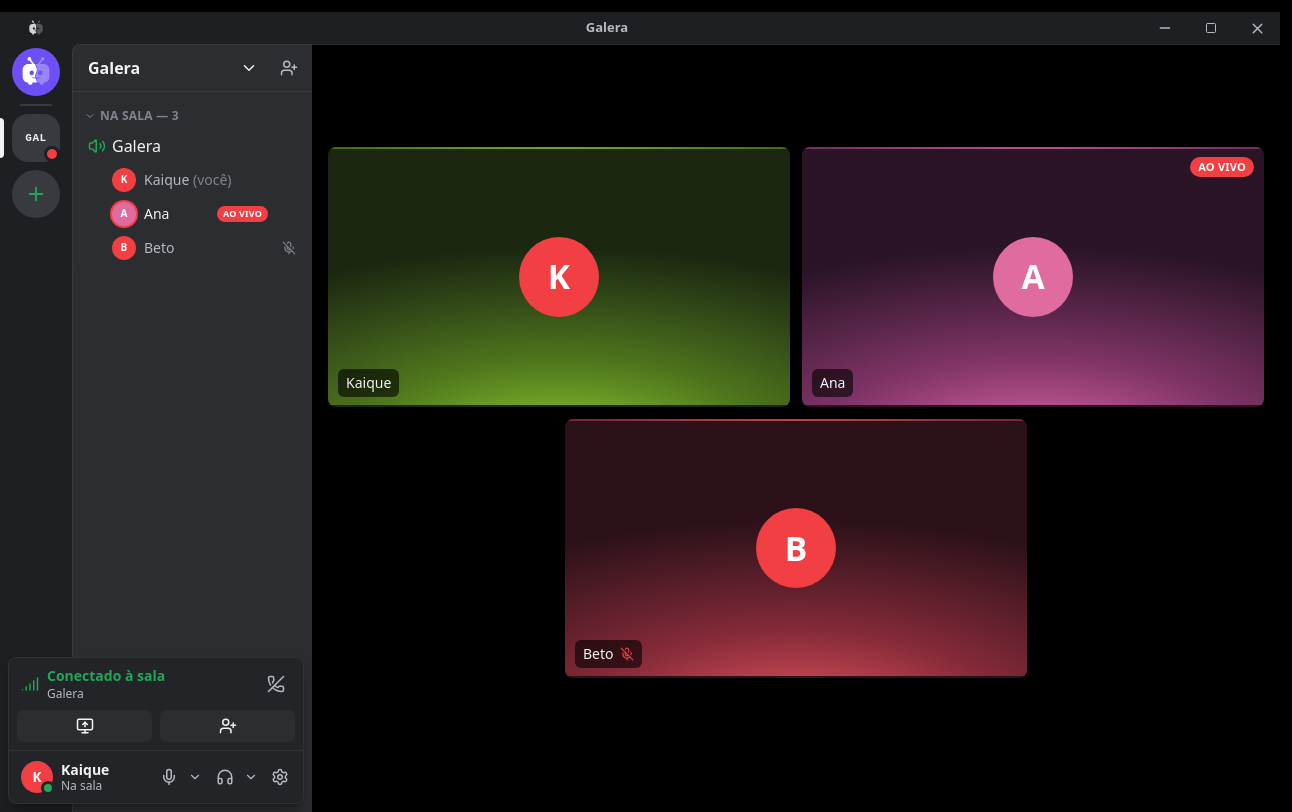
voz com alguém em foco › clicar num quadro põe a pessoa grande no centro e os outros na faixa de baixo
Click the button with aria-label "Pôr Beto em foco": (796, 548) x1=565 y1=418 x2=1027 y2=678
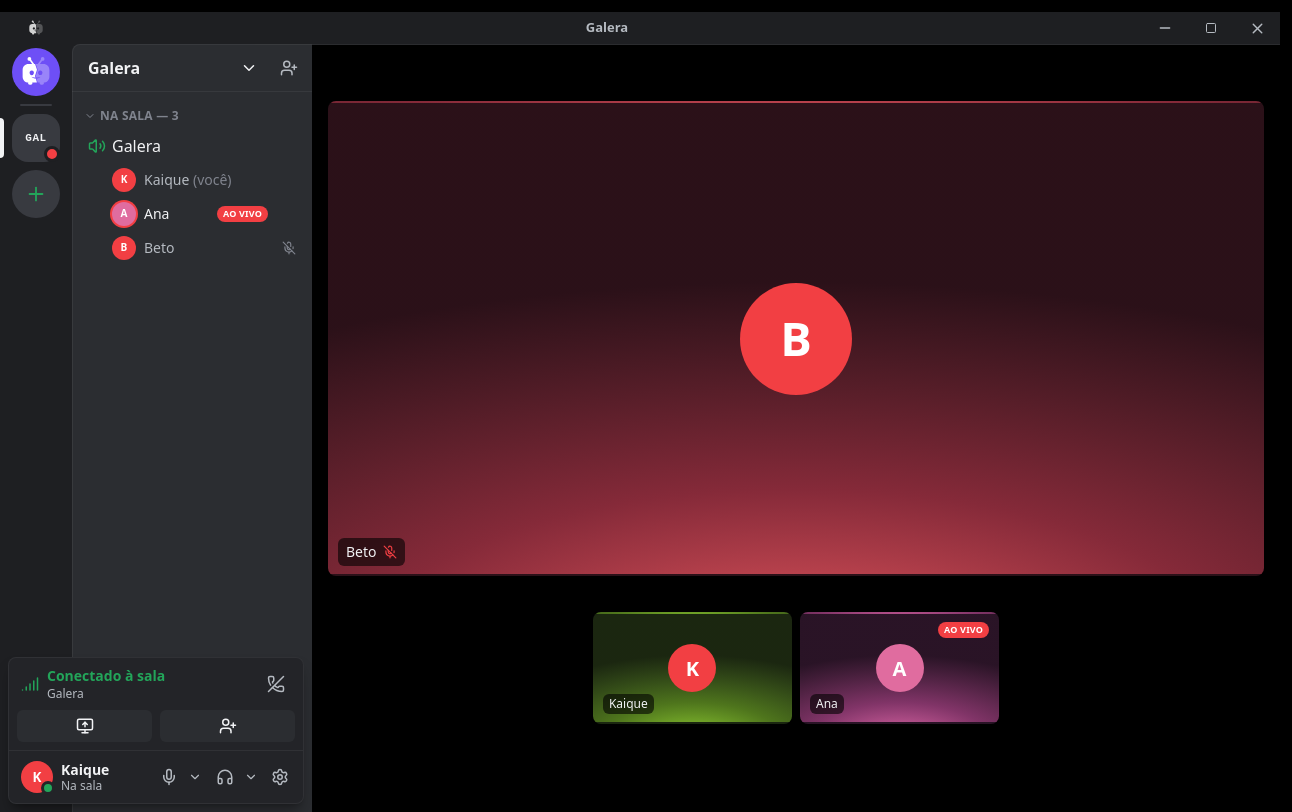
Expected: the 2nd text "Beto" is shown, x1=346 y1=542 x2=376 y2=562
Expected: the 1st text "Kaique" is shown, x1=609 y1=696 x2=648 y2=712
Expected: the 2nd text "Ana" is shown, x1=816 y1=696 x2=838 y2=712
